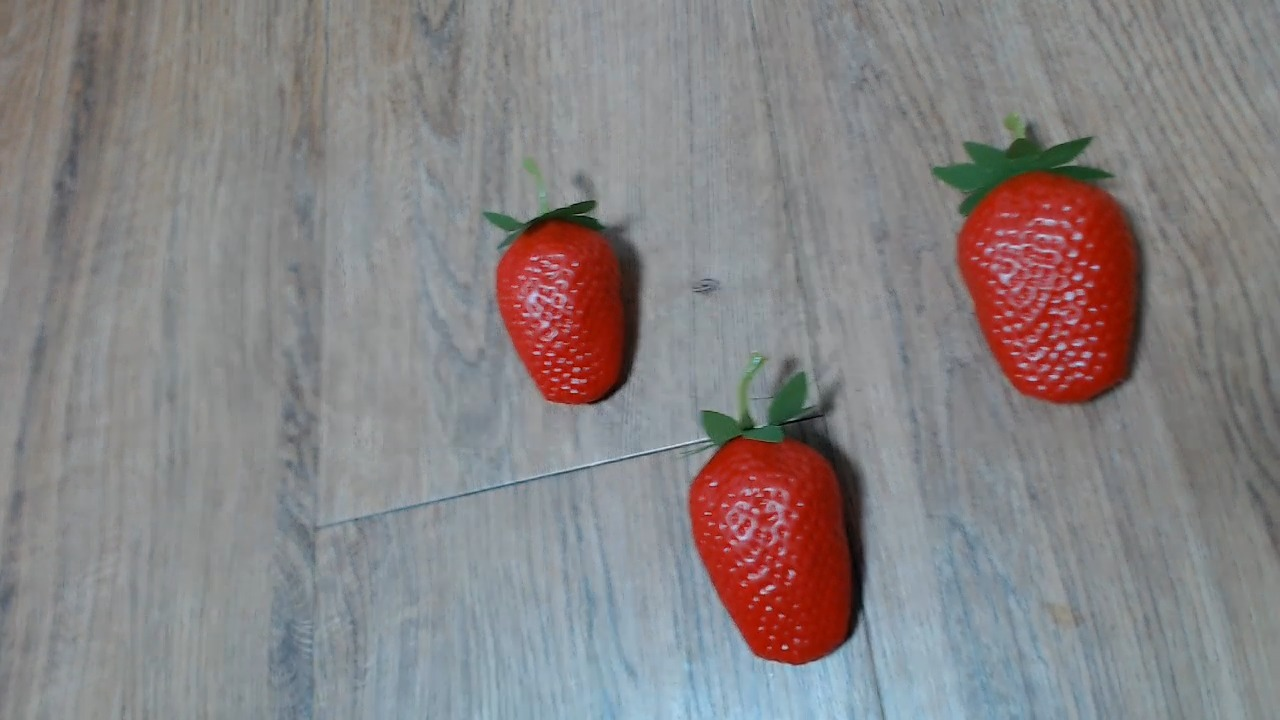strawberry: (933, 131, 1144, 396), (663, 416, 879, 668), (479, 190, 639, 411)
